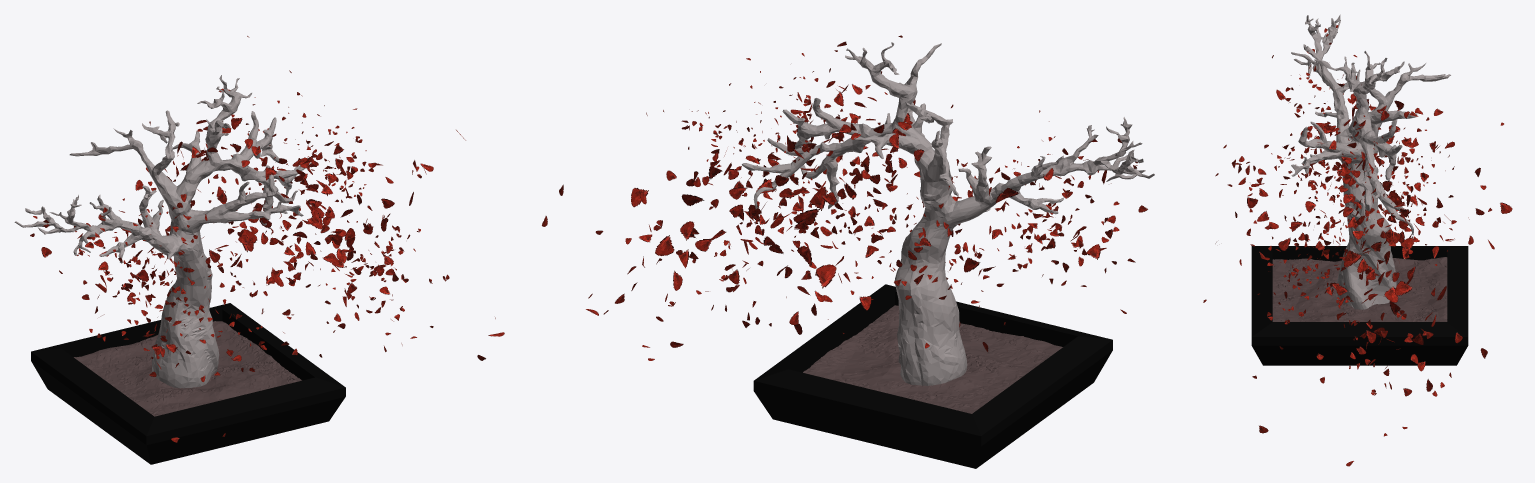
The model's file is morph-connect.glb.
3 renders of one model, left to right at view 1: azimuth 30°, elevation 25°; view 2: azimuth 150°, elevation 25°; view 3: azimuth 270°, elevation 25°, orthographic. The views are drawn at different scales.
Parts seen in each view (by area): view 1: Object_4, Object_2, Object_5, Object_3; view 2: Object_2, Object_4, Object_5, Object_3; view 3: Object_2, Object_4, Object_5, Object_3.
Part boxes in pixels (x1,y1,x2,y2): Object_4: (14, 75, 311, 388); Object_2: (31, 303, 345, 464); Object_5: (30, 36, 504, 442); Object_3: (74, 321, 301, 416); Object_2: (753, 284, 1112, 468); Object_4: (742, 42, 1154, 385); Object_5: (542, 35, 1147, 360); Object_3: (803, 305, 1062, 413); Object_2: (1251, 246, 1468, 365); Object_4: (1291, 14, 1450, 309); Object_5: (1203, 25, 1512, 466); Object_3: (1272, 257, 1447, 321).
Size of the model in its own units: 10 by 6.08 by 6.23.
Materials: 4 (1 with a texture image).
